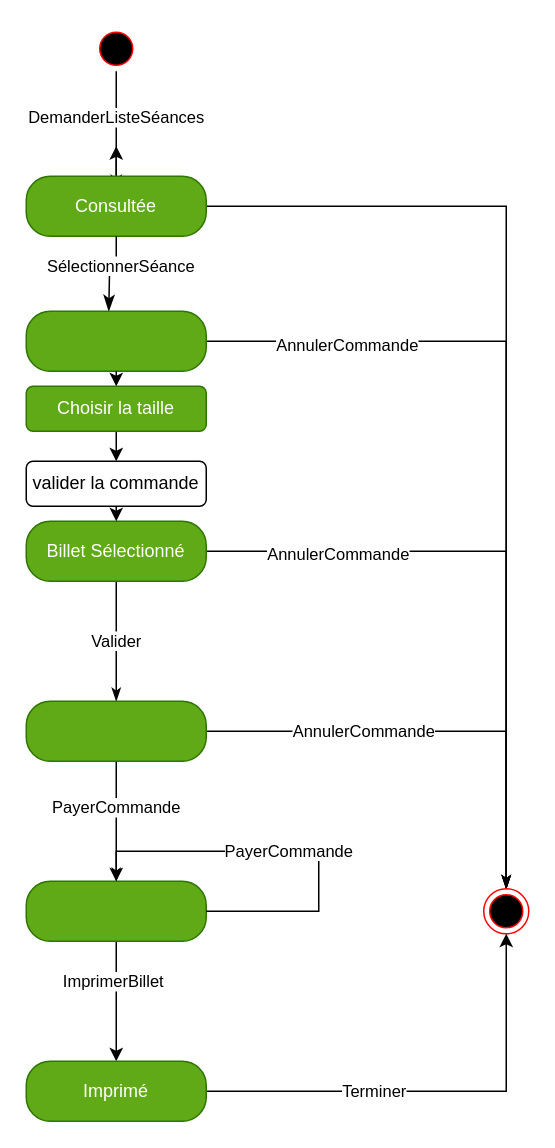
Image size: 555x1148. Some labels were removed from this diagram. The shapes that lost their labels are listed below. From the top down, each one's centre as x and y in pixels, then its label:
(115,340): Séance Sélectionnée
(115,730): Validée
(115,910): Payée
